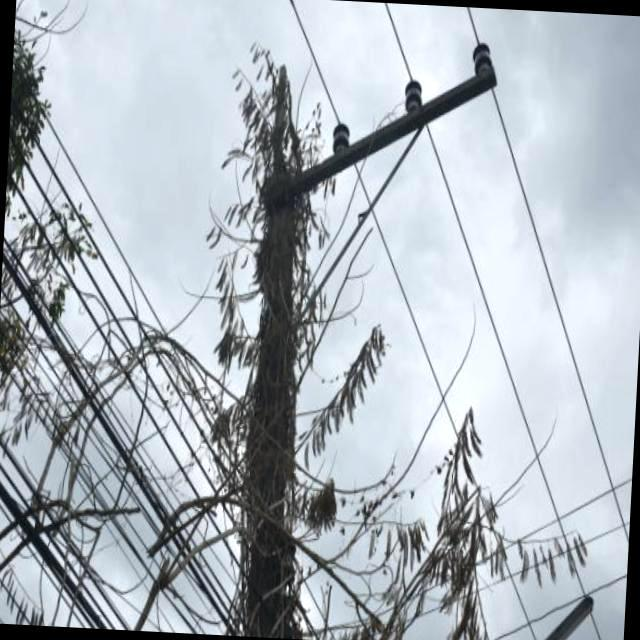light_pole: (194, 46, 344, 633)
